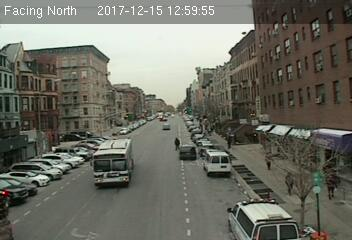bus: (92, 138, 135, 185)
car: (179, 144, 197, 161)
pedestrian: (324, 168, 338, 200), (282, 170, 298, 196), (265, 152, 274, 171), (174, 137, 180, 150)
police: (225, 197, 304, 240)
truck: (205, 151, 232, 176)
